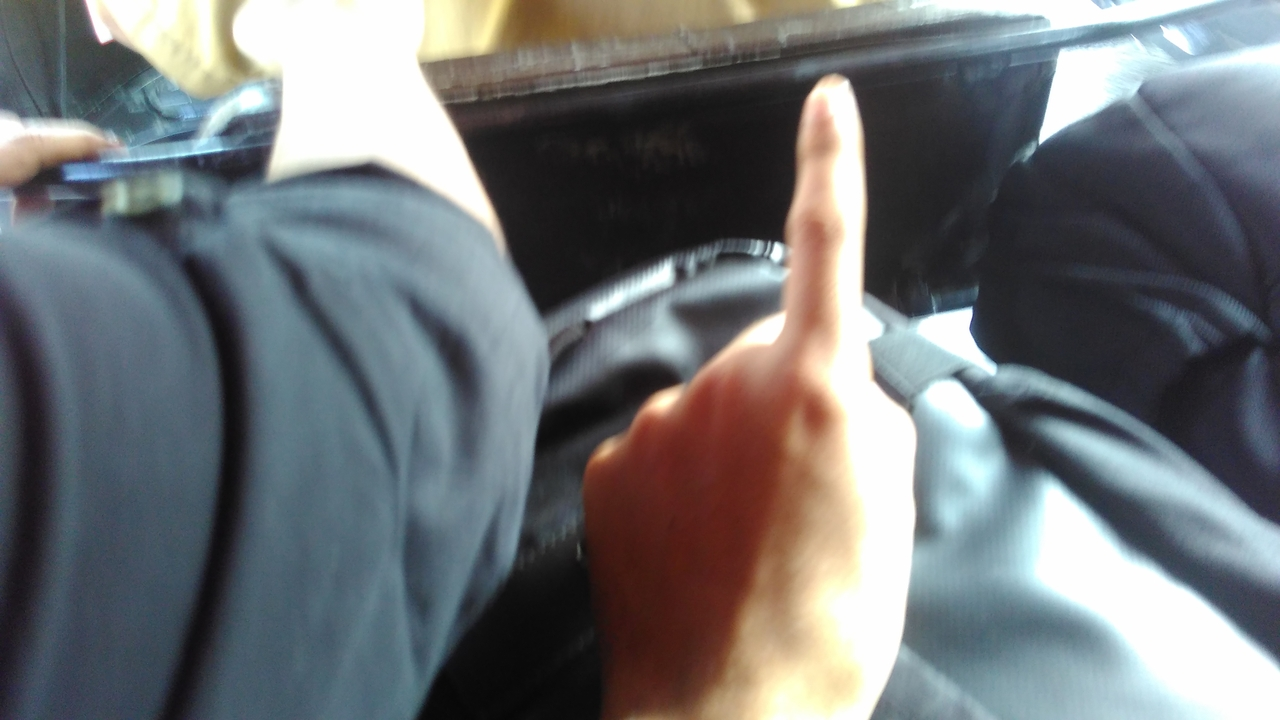fingertip: (796, 62, 862, 132)
